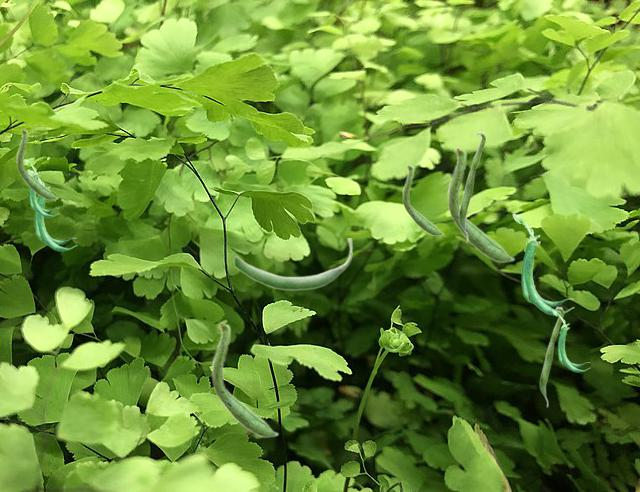french_bean: (447, 146, 514, 262), (211, 321, 278, 437), (233, 238, 352, 290), (512, 213, 573, 314), (27, 169, 76, 250), (458, 131, 485, 242), (402, 164, 443, 235), (16, 128, 57, 199), (539, 306, 563, 407), (552, 310, 589, 371), (25, 159, 58, 216)
